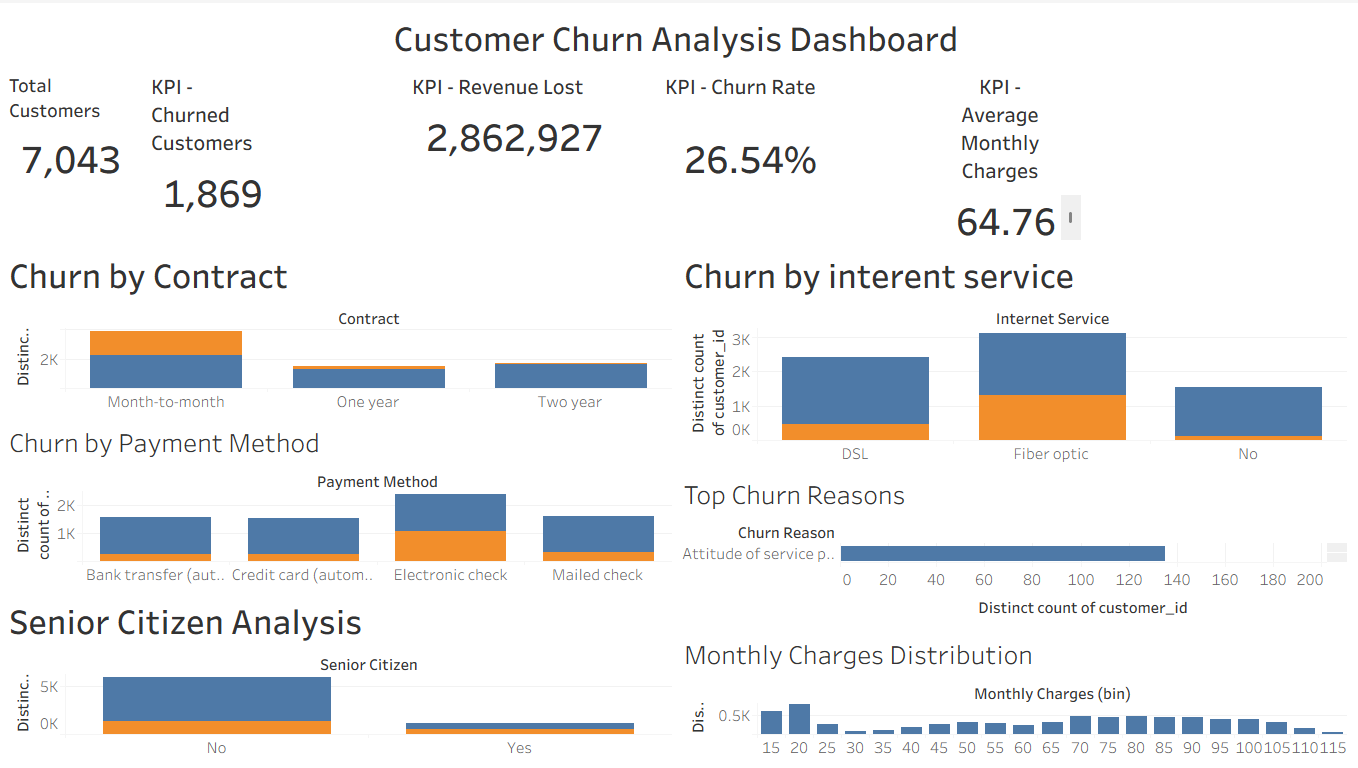

Layout of this report page (visuals, bound fields, positions):
{"tool":"tableau","page":{"name":"Customer Churn Analysis Dashboard","canvas":[1366,768],"ordinal":0},"visuals":[{"type":"title","box":[8,8,1350,53]},{"type":"worksheet","title":"Total Customers","mark":"Automatic","box":[8,61,141.8,171]},{"type":"worksheet","title":"KPI - Churned Customers","mark":"Text","box":[149.8,61,261.5,171]},{"type":"worksheet","title":"KPI - Revenue Lost","mark":"Automatic","box":[411.2,61,252.5,171]},{"type":"worksheet","title":"KPI - Churn Rate","mark":"Text","box":[663.7,61,279.5,171]},{"type":"worksheet","title":"KPI - Average Monthly Charges","mark":"Automatic","box":[943.2,61,414.8,171]},{"type":"worksheet","title":"Churn by Contract","mark":"Automatic","rows":["customerid"],"cols":["contract"],"box":[8,232,675,176]},{"type":"worksheet","title":"Churn by interent service","mark":"Bar","rows":["customerid"],"cols":["internet_service"],"box":[683,232,675,234.2]},{"type":"worksheet","title":"Churn by Payment Method","mark":"Bar","rows":["customerid"],"cols":["payment_method"],"box":[8,408,675,176]},{"type":"worksheet","title":"Top Churn Reasons","mark":"Automatic","rows":["churn_reason"],"cols":["customerid"],"box":[683,466.3,675,154.3]},{"type":"worksheet","title":"Senior Citizen Analysis","mark":"Bar","rows":["customerid"],"cols":["senior_citizen"],"box":[8,584,675,176]},{"type":"worksheet","title":"Monthly Charges Distribution","mark":"Automatic","rows":["customerid"],"cols":["Monthly Charges (bin)"],"box":[683,620.6,675,139.4]}]}

Visuals, with their boxes in screenshot pixels (x1, y1, x2, y2), scaled from the page's 1366x768 canvas onto the 1358x768 screenshot:
title: [left=8, top=8, right=1350, bottom=61]
"Total Customers" worksheet: [left=8, top=61, right=149, bottom=232]
"KPI - Churned Customers" worksheet (Text marks): [left=149, top=61, right=409, bottom=232]
"KPI - Revenue Lost" worksheet: [left=409, top=61, right=660, bottom=232]
"KPI - Churn Rate" worksheet (Text marks): [left=660, top=61, right=938, bottom=232]
"KPI - Average Monthly Charges" worksheet: [left=938, top=61, right=1350, bottom=232]
"Churn by Contract" worksheet: [left=8, top=232, right=679, bottom=408]
"Churn by interent service" worksheet (Bar marks): [left=679, top=232, right=1350, bottom=466]
"Churn by Payment Method" worksheet (Bar marks): [left=8, top=408, right=679, bottom=584]
"Top Churn Reasons" worksheet: [left=679, top=466, right=1350, bottom=621]
"Senior Citizen Analysis" worksheet (Bar marks): [left=8, top=584, right=679, bottom=760]
"Monthly Charges Distribution" worksheet: [left=679, top=621, right=1350, bottom=760]
